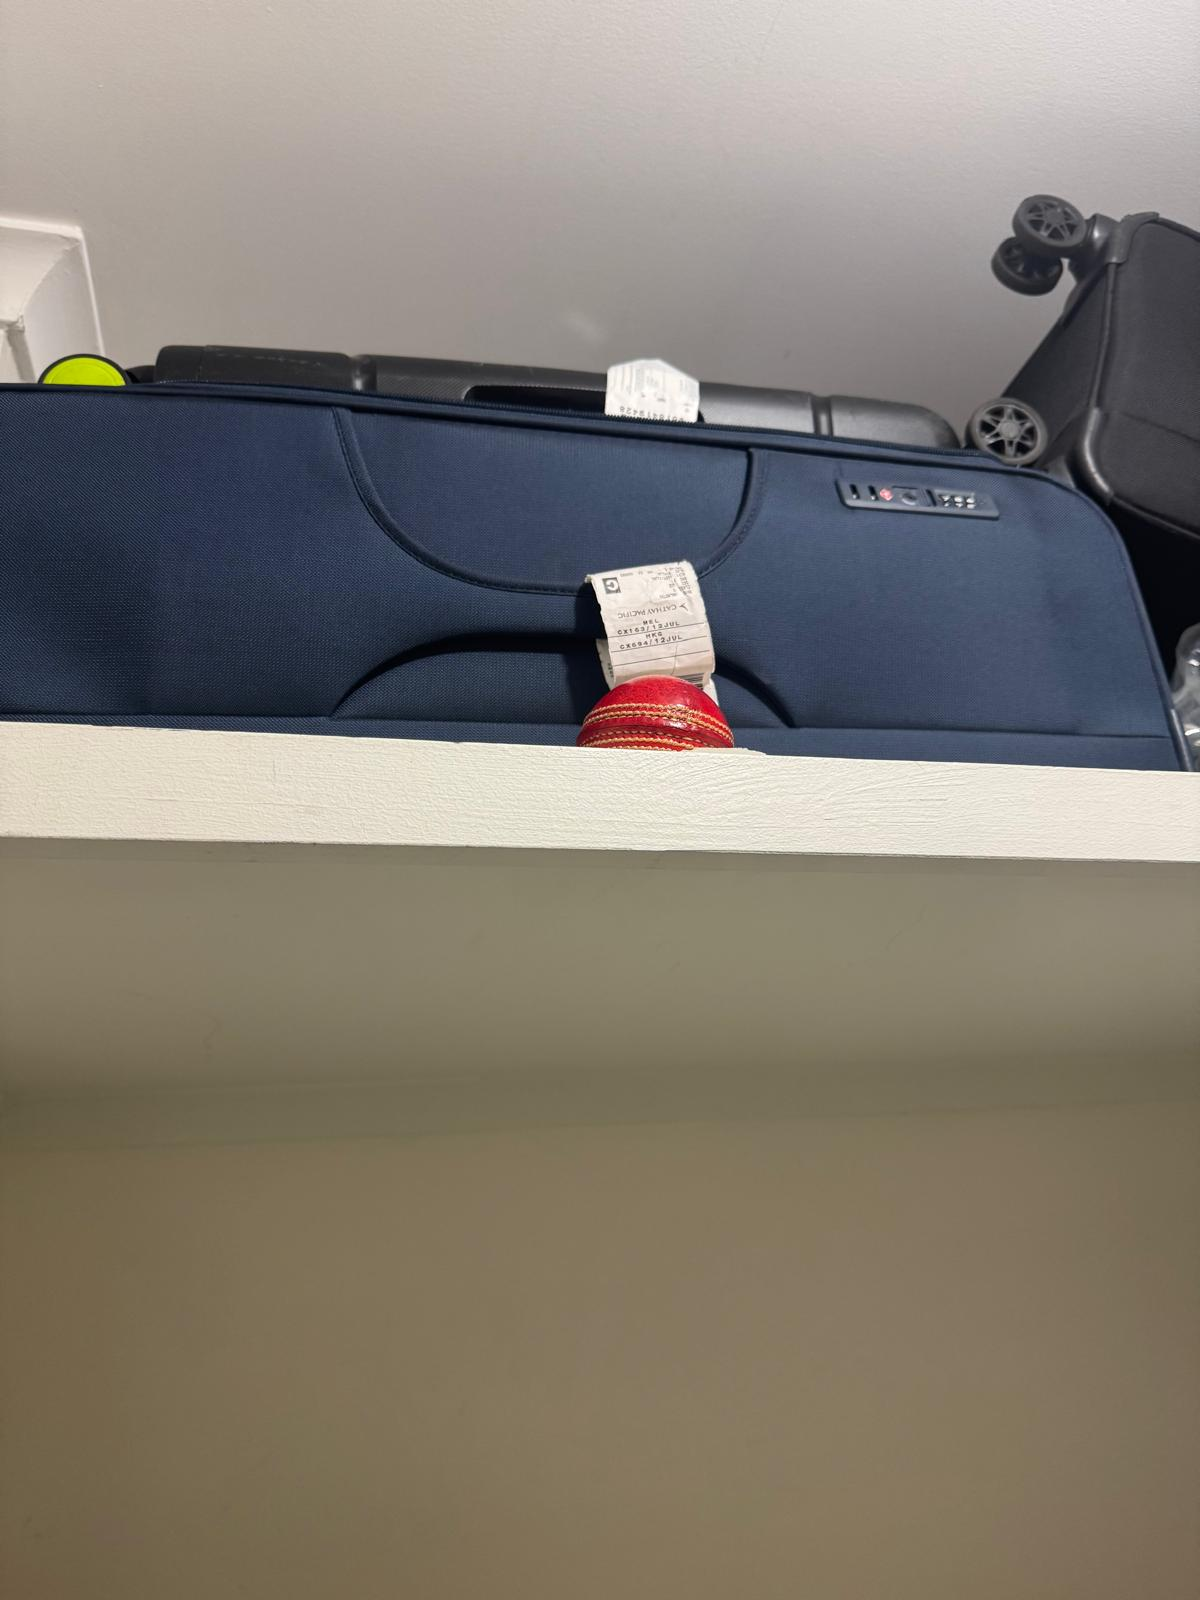Red_Ball: (563, 665, 745, 765)
